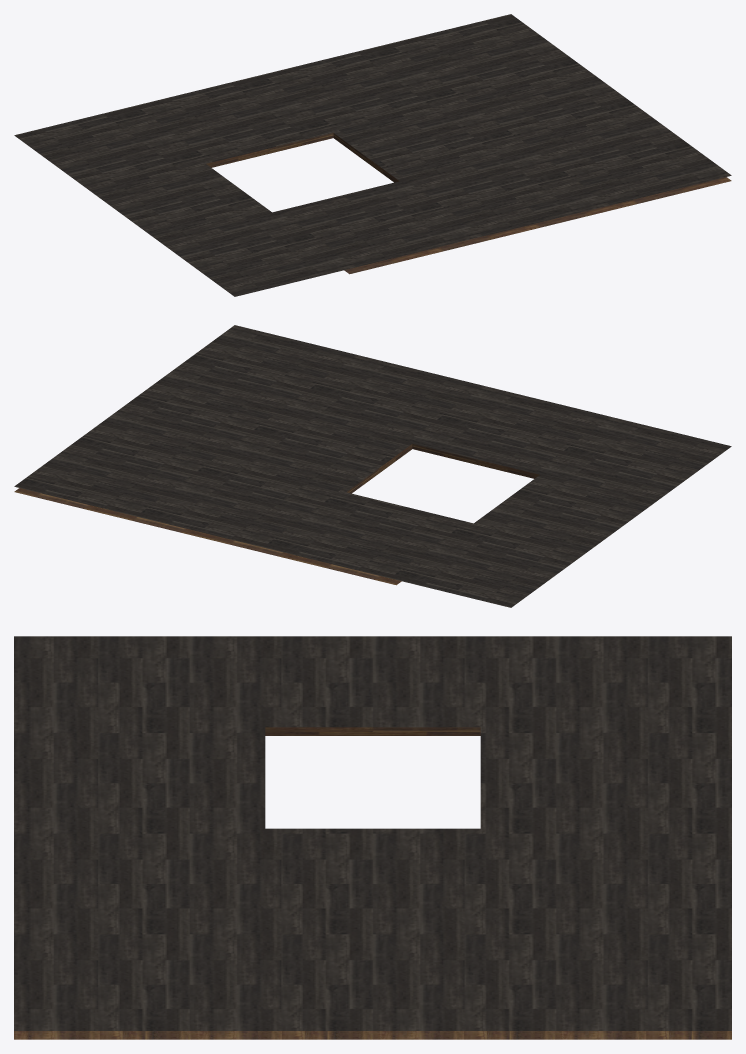
The model's file is floor_top.glb.
3 views of the same model, one above another, from view 1: azimuth 30°, elevation 25°; view 2: azimuth 150°, elevation 25°; view 3: azimuth 270°, elevation 25° (orthographic). The views are drawn at different scales.
Parts seen in each view (by area): view 1: Piano.005, Piano, Piano.001; view 2: Piano.005, Piano, Piano.002; view 3: Piano.005, Piano, Piano.004.
Part boxes in pixels (box(x1,y1,x2,y2)): Piano.005: box(14, 14, 731, 296); Piano: box(344, 177, 731, 274); Piano.001: box(206, 133, 333, 167); Piano.005: box(14, 325, 731, 607); Piano: box(14, 488, 401, 585); Piano.002: box(412, 444, 539, 478); Piano.005: box(14, 636, 731, 1030); Piano: box(14, 1031, 731, 1039); Piano.004: box(265, 727, 480, 735).
Bounding box in the file's own units: 19.5 × 0.2 × 15.
6 materials, 6 textured.
